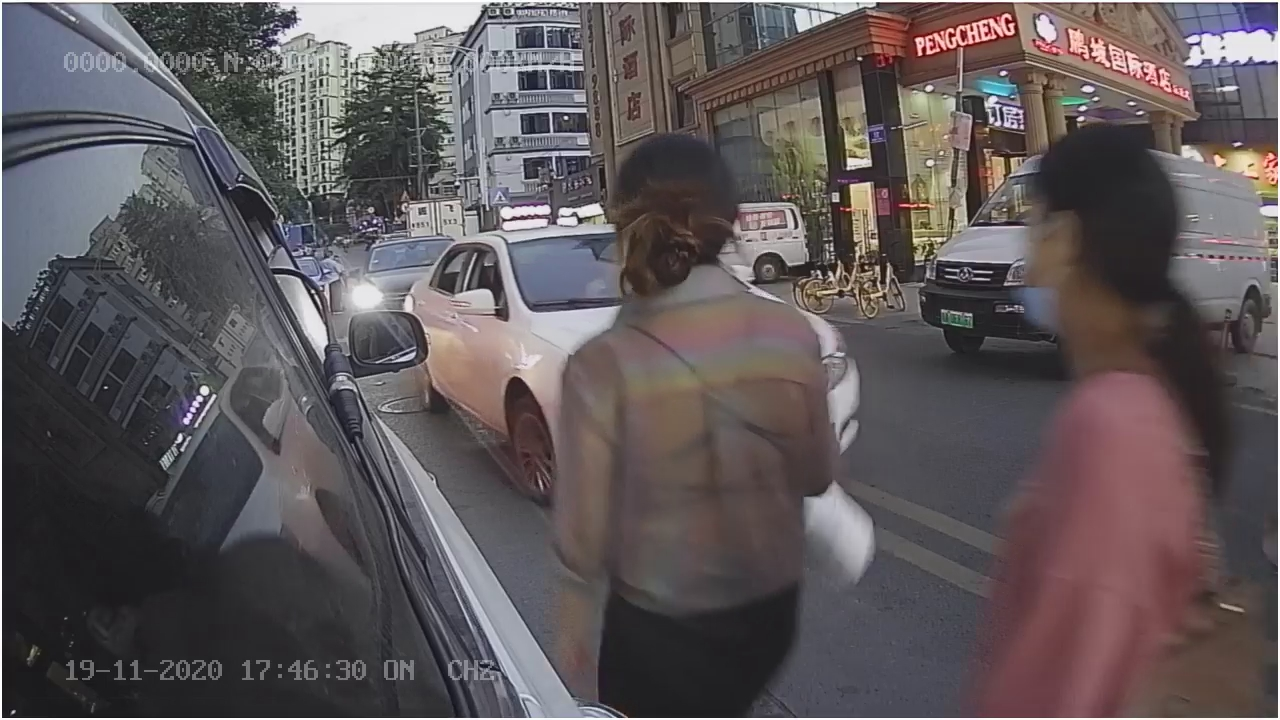person: (552, 142, 842, 685), (986, 128, 1229, 672)
